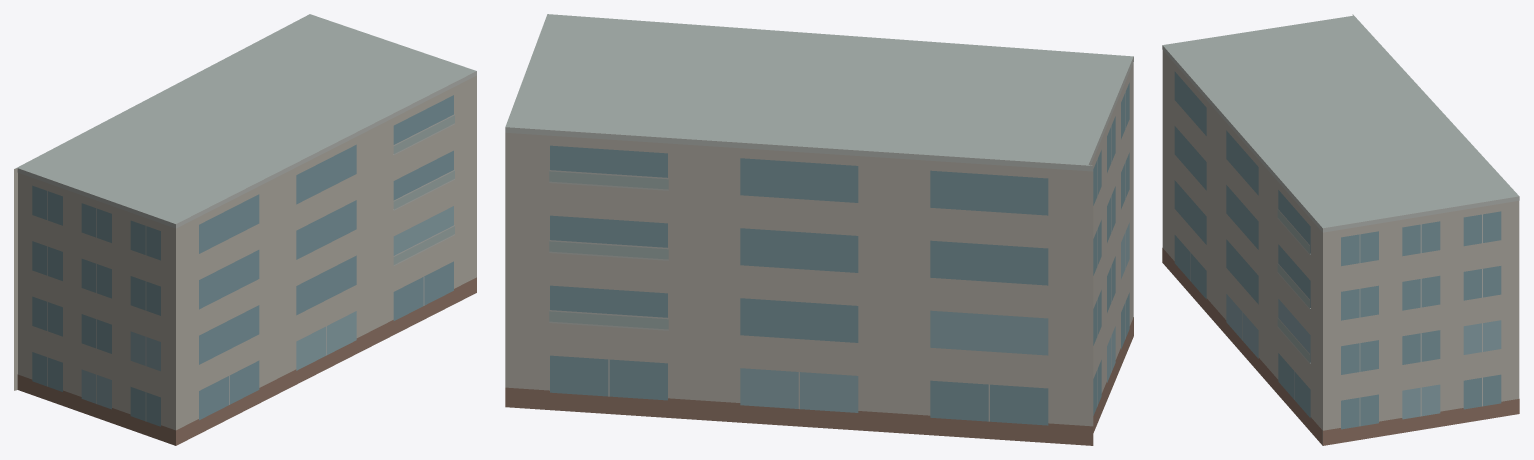
The model's file is survey-upis-33016838.glb.
The picture shows the model from 3 angles, left to right: view 1: azimuth 30°, elevation 25°; view 2: azimuth 150°, elevation 25°; view 3: azimuth 270°, elevation 25°; orthographic projection. The views are drawn at different scales.
Visible parts, largest first — view 1: survey-upis-33016838.tmp; view 2: survey-upis-33016838.tmp; view 3: survey-upis-33016838.tmp.
Boxes of the visible parts, x1=… form: survey-upis-33016838.tmp: x1=14, y1=14, x2=476, y2=445; survey-upis-33016838.tmp: x1=505, y1=14, x2=1133, y2=445; survey-upis-33016838.tmp: x1=1162, y1=14, x2=1519, y2=445.
Size of the model in its own units: 25.78 by 12.2 by 18.15.
